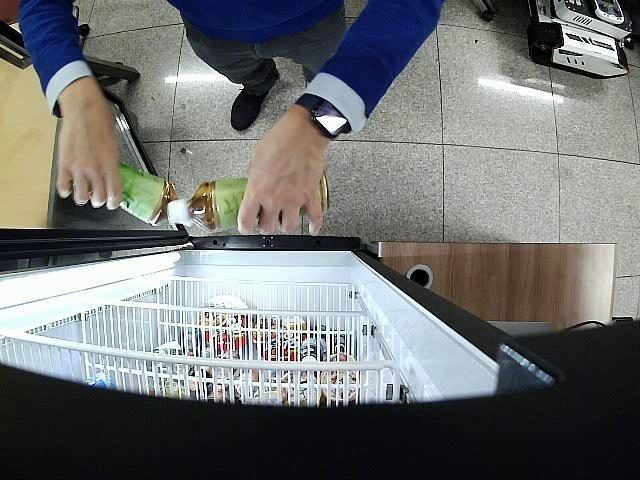19_17cha: (171, 170, 331, 234), (118, 161, 180, 229)
